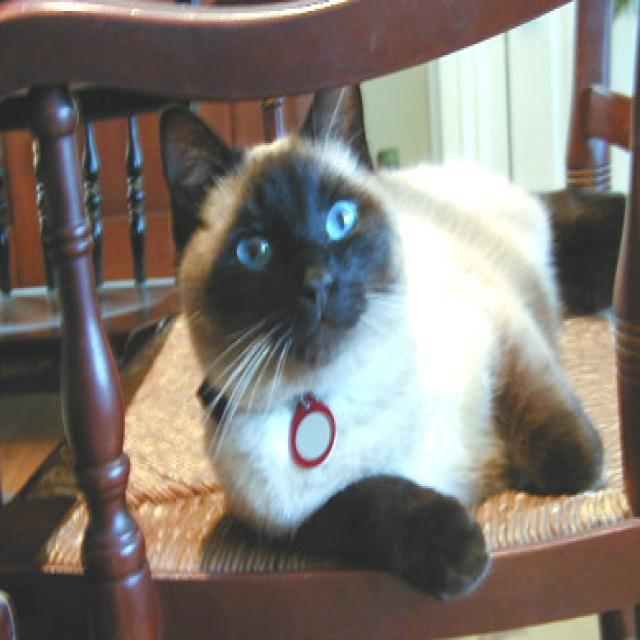Siamese: (157, 59, 607, 607)
